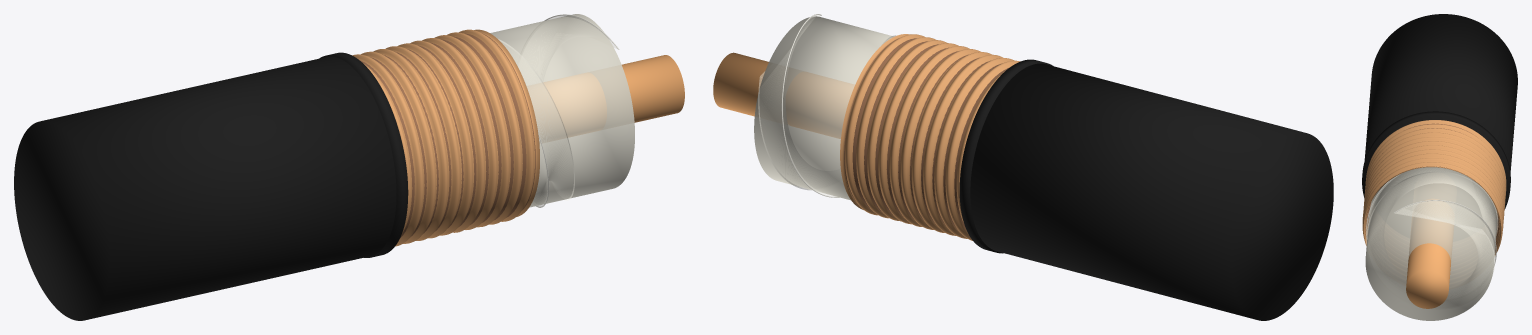
The model's file is rf-ldf1.glb.
The picture shows the model from 3 angles, left to right: view 1: azimuth 30°, elevation 25°; view 2: azimuth 150°, elevation 25°; view 3: azimuth 270°, elevation 25°; orthographic projection. The views are drawn at different scales.
Parts seen in each view (by area): view 1: black PE jacket body, corrugated copper shield, foam PE dielectric, solid center conductor continuous, dark groove shadow pass, surface PTFE tape wrap, jacket cut lip; view 2: black PE jacket body, corrugated copper shield, foam PE dielectric, solid center conductor continuous, dark groove shadow pass, jacket cut lip, surface PTFE tape wrap; view 3: black PE jacket body, foam PE dielectric, corrugated copper shield, surface PTFE tape wrap, solid center conductor continuous, jacket cut lip, subtle PTFE tape lap line, dark groove shadow pass.
Boxes of the visible parts, x1,y1,x2,y2 form: black PE jacket body: (14, 56, 396, 320); corrugated copper shield: (352, 29, 539, 246); foam PE dielectric: (490, 14, 634, 207); solid center conductor continuous: (527, 55, 684, 143); dark groove shadow pass: (360, 33, 535, 238); surface PTFE tape wrap: (498, 16, 617, 206); jacket cut lip: (319, 52, 408, 257); black PE jacket body: (970, 63, 1333, 320); corrugated copper shield: (840, 34, 1020, 240); foam PE dielectric: (754, 16, 893, 200); solid center conductor continuous: (713, 52, 854, 138); dark groove shadow pass: (844, 38, 1009, 230); jacket cut lip: (959, 59, 1052, 253); surface PTFE tape wrap: (758, 15, 895, 196); black PE jacket body: (1364, 14, 1517, 172); foam PE dielectric: (1365, 167, 1497, 320); corrugated copper shield: (1362, 120, 1506, 255); surface PTFE tape wrap: (1366, 171, 1497, 301); solid center conductor continuous: (1406, 199, 1453, 308); jacket cut lip: (1362, 111, 1510, 209); subtle PTFE tape lap line: (1366, 179, 1496, 267); dark groove shadow pass: (1365, 123, 1499, 250).
Bounding box in the file's own units: 6.69 × 2 × 2.09.
